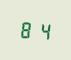eight: (19, 18, 34, 39)
four: (35, 20, 50, 41)
